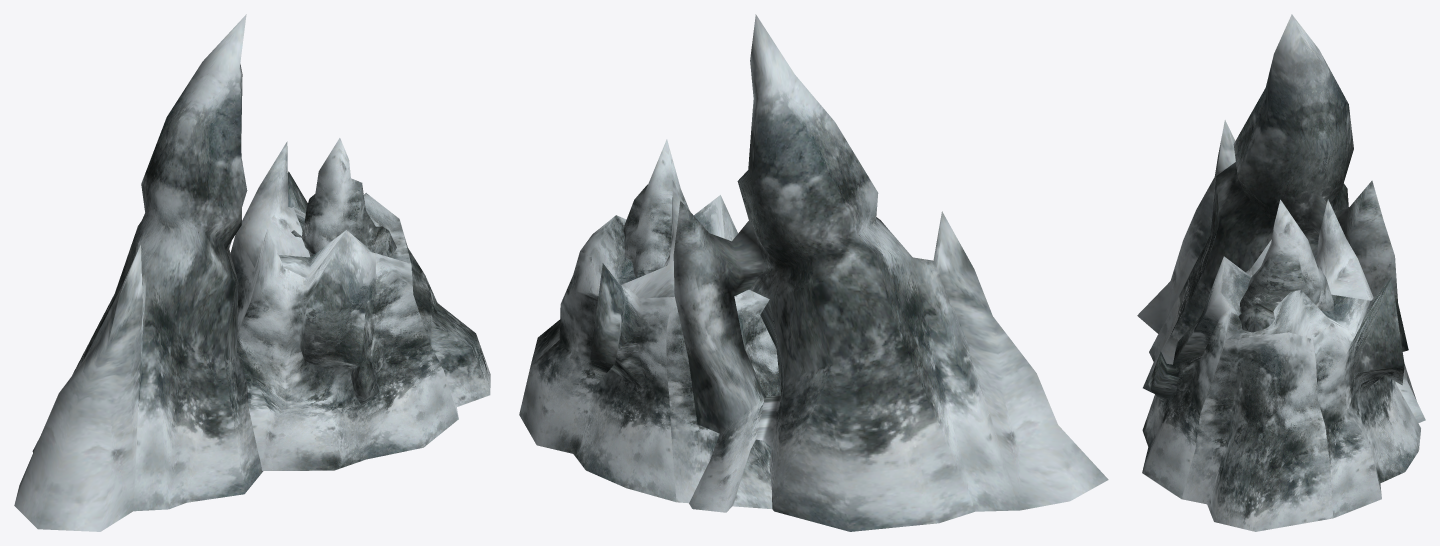
Rendered from S_Rock_White001.FBX.
3 renders of one model, left to right at view 1: azimuth 30°, elevation 25°; view 2: azimuth 150°, elevation 25°; view 3: azimuth 270°, elevation 25°, orthographic. The views are drawn at different scales.
Visible parts, largest first — view 1: S_Rock_White001; view 2: S_Rock_White001; view 3: S_Rock_White001.
Boxes of the visible parts, left/top/right/bottom form: S_Rock_White001: left=14, top=14, right=490, bottom=531; S_Rock_White001: left=519, top=14, right=1108, bottom=531; S_Rock_White001: left=1137, top=14, right=1425, bottom=531.
Size of the model in its own units: 1189 by 597 by 939.
